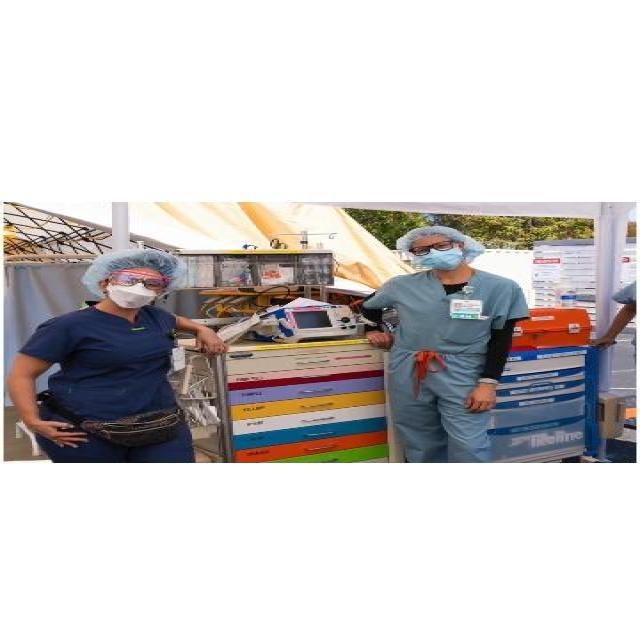bare_hand: (23, 410, 89, 448), (183, 318, 236, 355), (468, 379, 507, 414), (363, 324, 400, 350)
